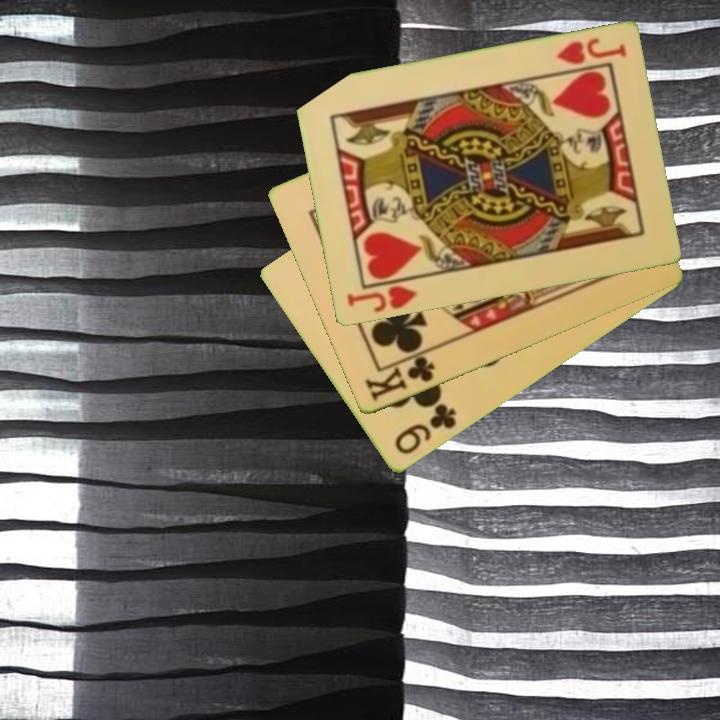9c: (391, 400, 460, 458)
Jh: (342, 282, 420, 316), (552, 35, 629, 68)
Kc: (361, 347, 438, 405)
